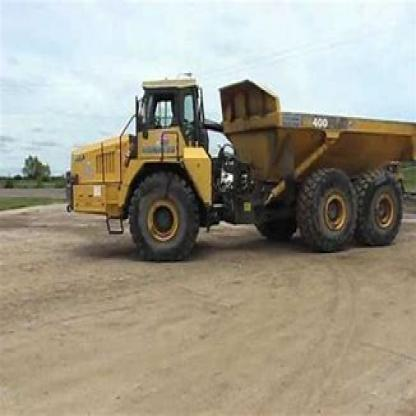dump_truck: (60, 53, 415, 273)
